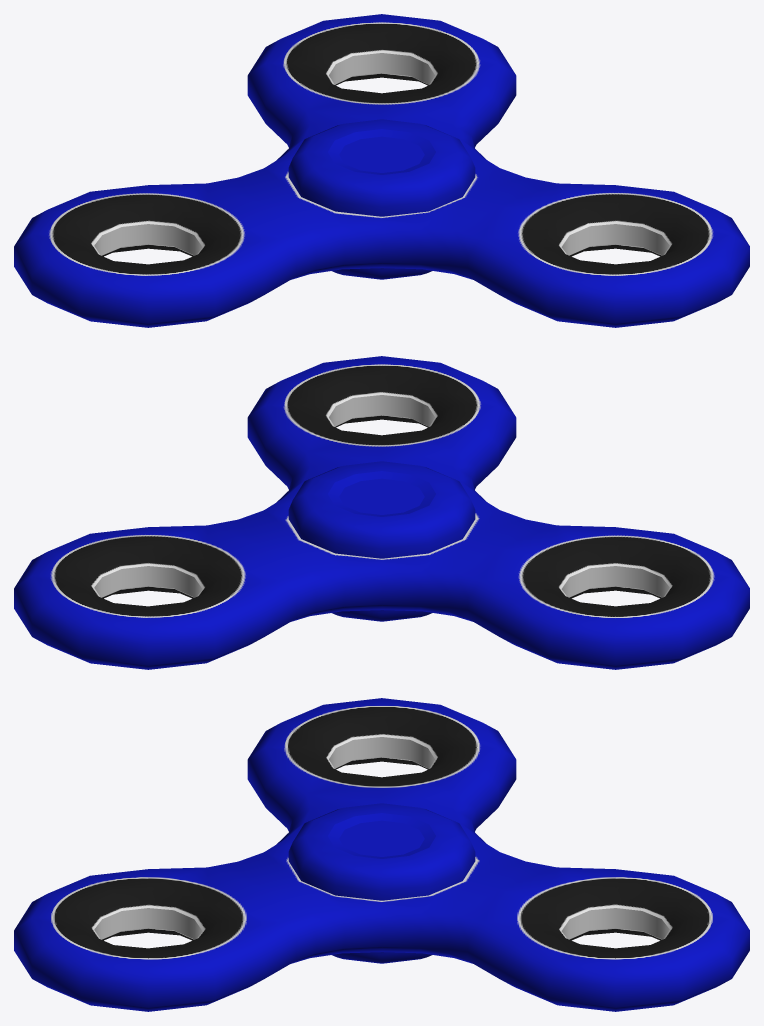
Rendered from FidgetSpinner.FBX.
3 views of the same model, one above another, from view 1: azimuth 30°, elevation 25°; view 2: azimuth 150°, elevation 25°; view 3: azimuth 270°, elevation 25° (orthographic).
Visible parts, largest first — view 1: Cylinder001; view 2: Cylinder001; view 3: Cylinder001.
Part boxes in pixels (left/top/right/bottom): Cylinder001: left=14, top=14, right=749, bottom=327; Cylinder001: left=14, top=356, right=749, bottom=669; Cylinder001: left=14, top=698, right=749, bottom=1011.
Bounding box in the file's own units: 102 × 15.82 × 111.
